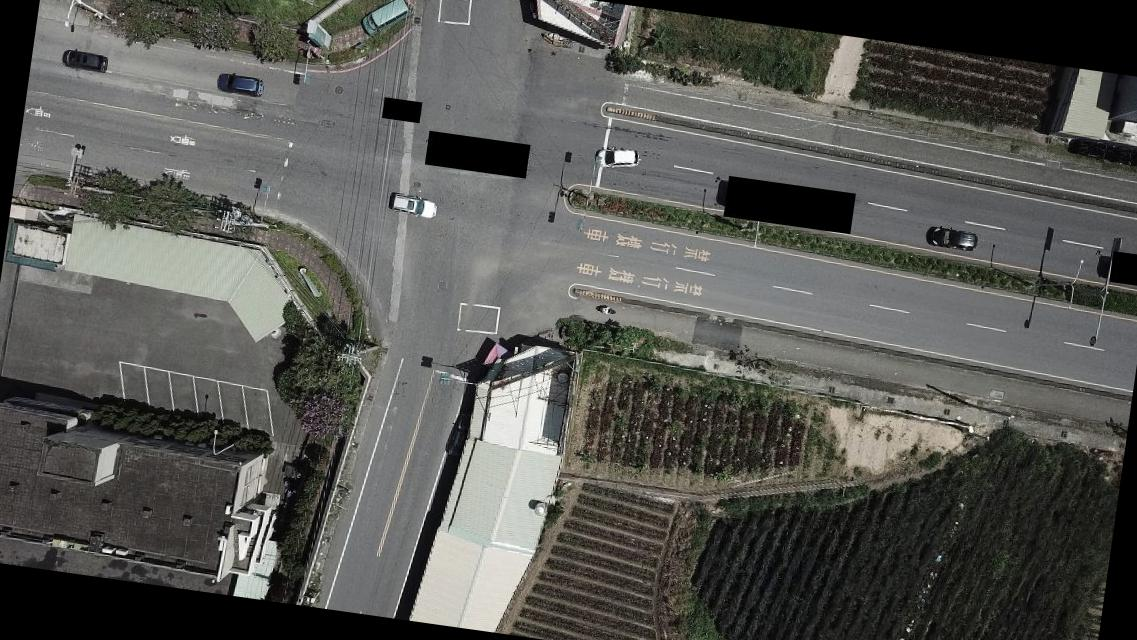vehicle: (357, 0, 412, 41), (926, 223, 981, 254), (594, 142, 644, 174), (387, 192, 442, 221), (61, 47, 110, 75), (212, 70, 264, 96)
